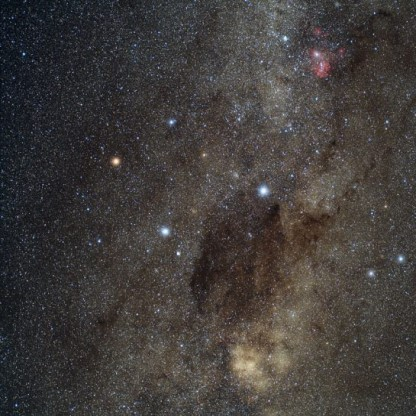Southern Cross: (248, 177, 280, 208), (102, 150, 123, 173), (161, 112, 181, 134), (154, 221, 173, 240)
